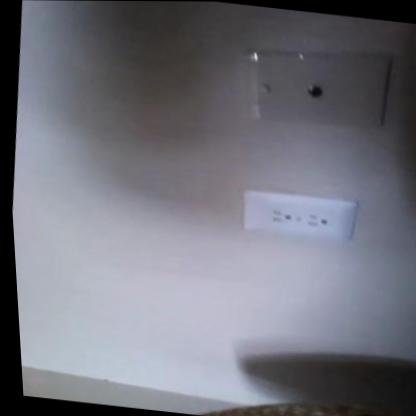OUTLET: (236, 188, 360, 241)
